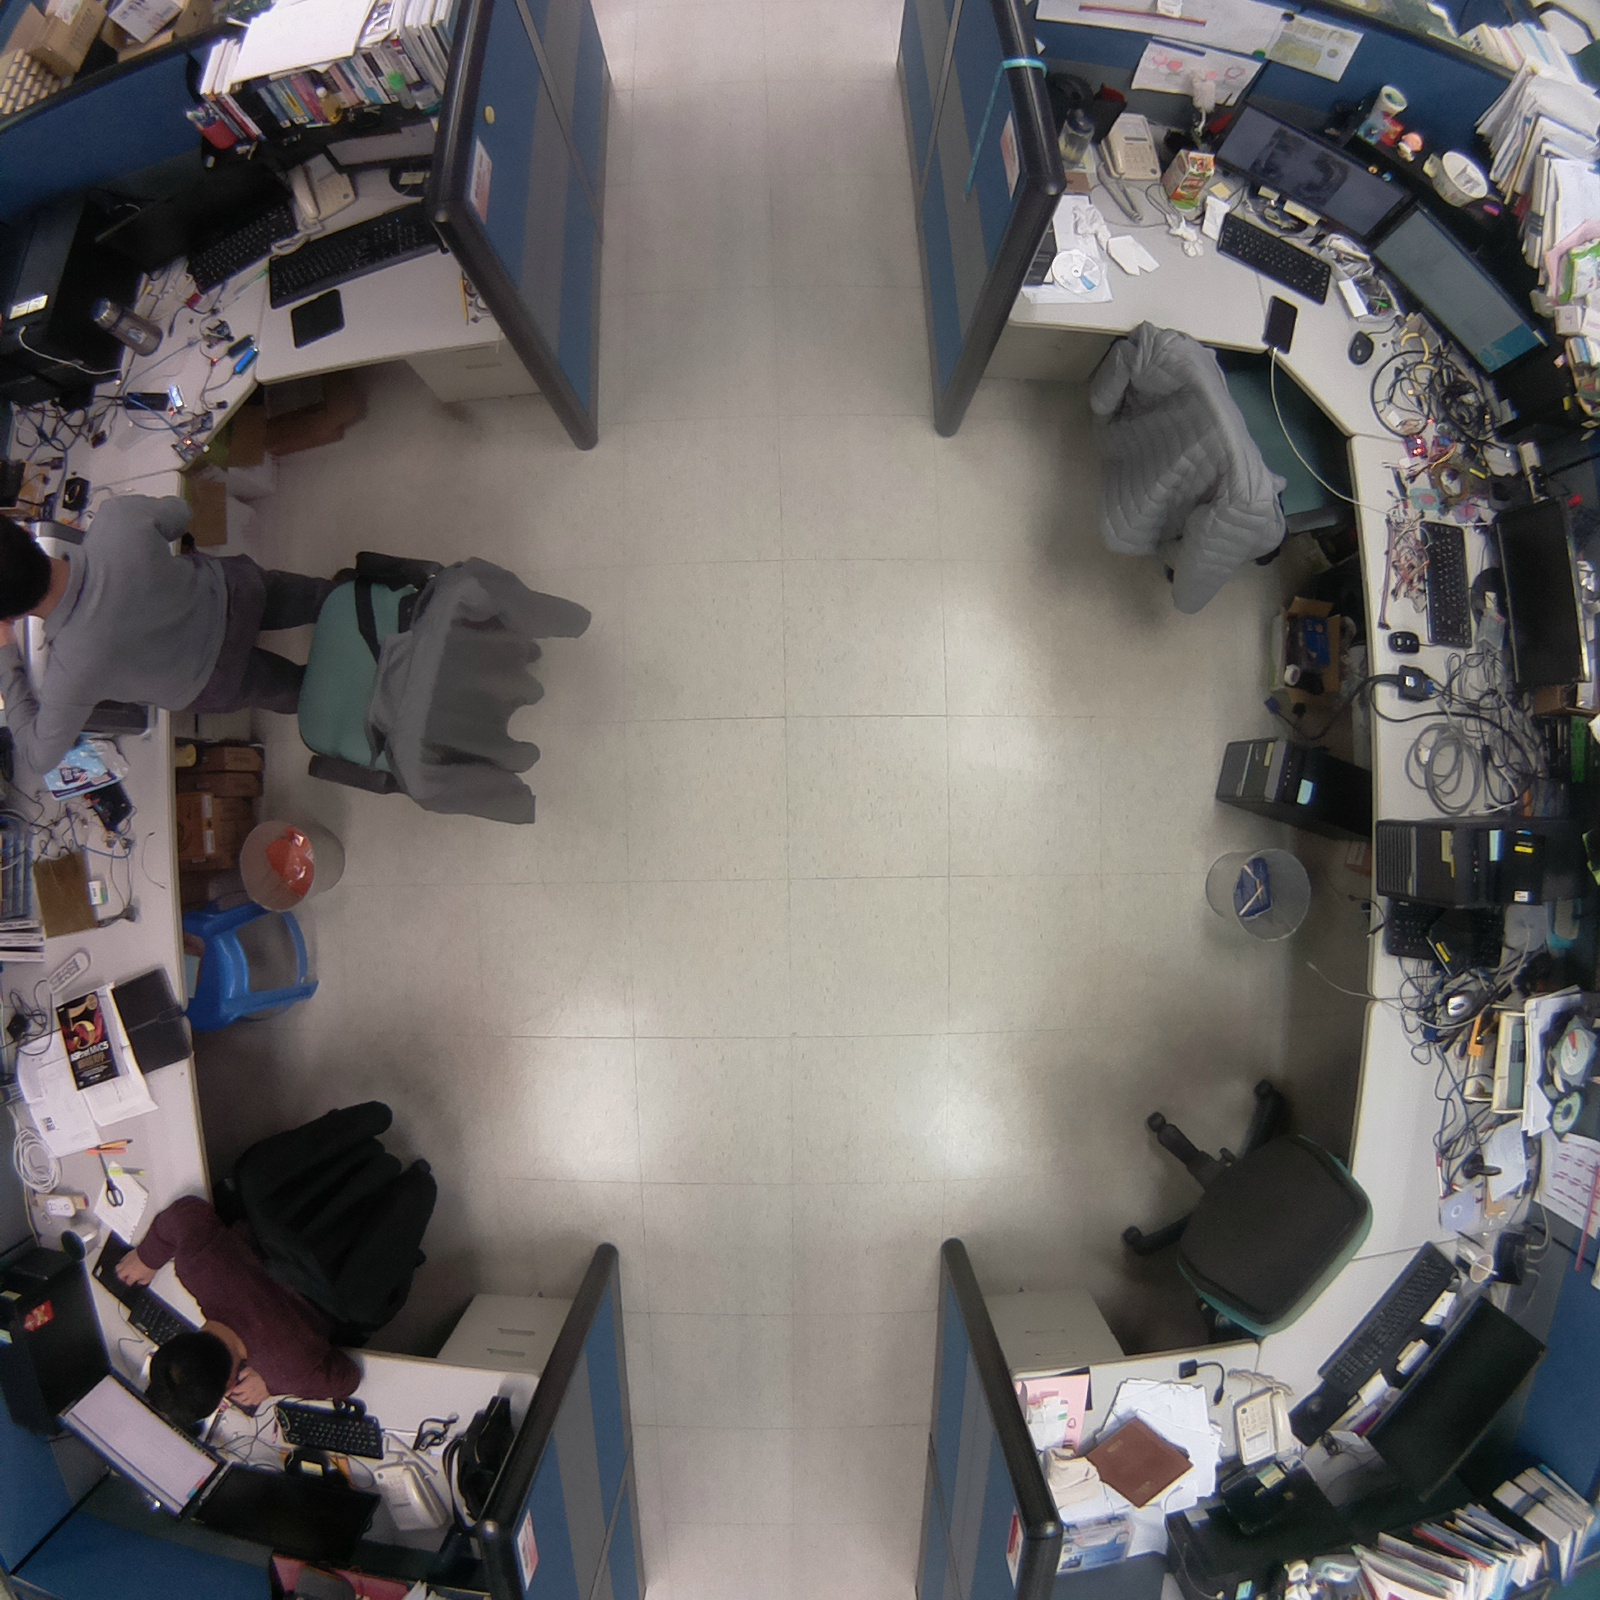chair: (284, 535, 607, 842), (1075, 315, 1374, 627), (1111, 1062, 1389, 1355)
sitting: (105, 1178, 374, 1448)
standing: (1, 475, 353, 788)
